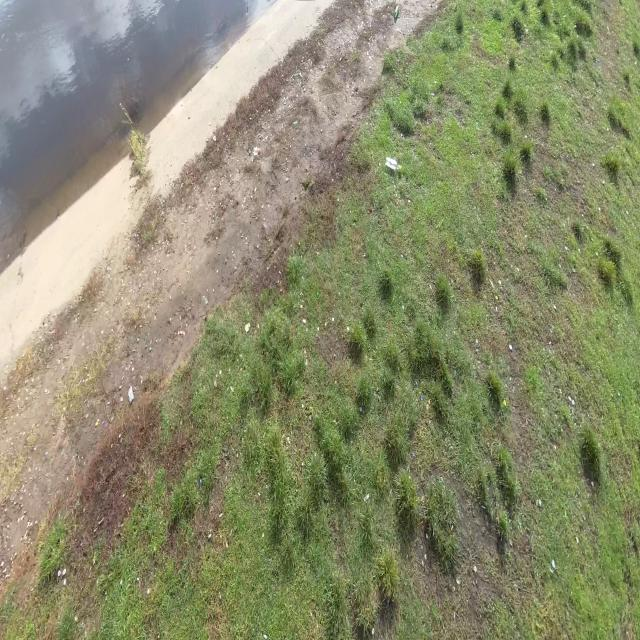rubbish: (384, 156, 405, 175), (127, 385, 135, 406), (392, 4, 401, 20)
